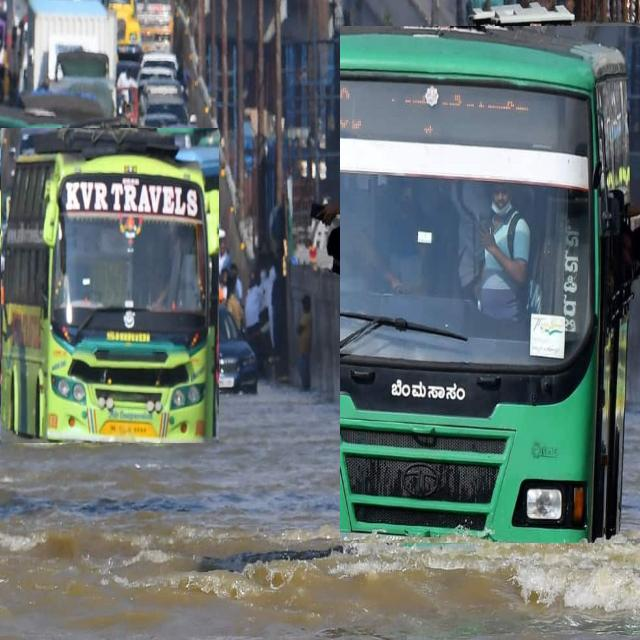bus: (340, 27, 640, 543), (0, 129, 219, 443)
